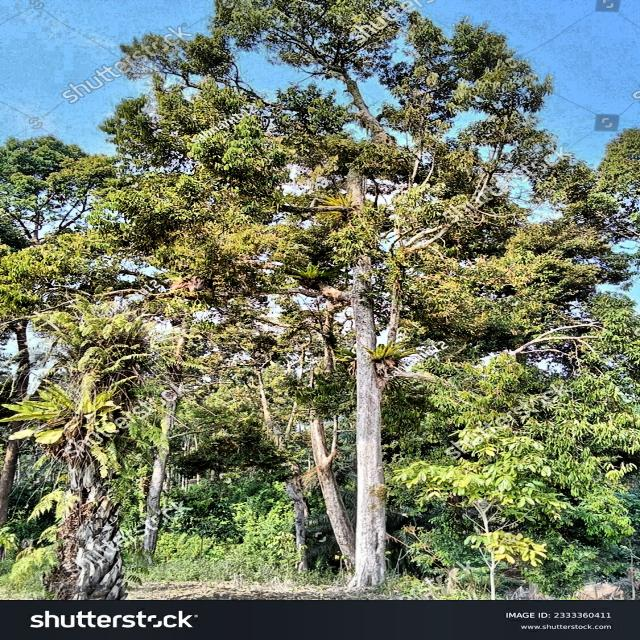arvore: (306, 154, 407, 606)
